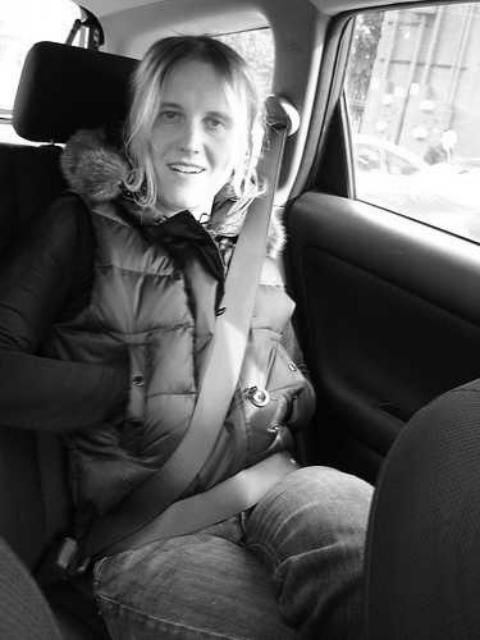SafeDriving: (198, 107, 232, 136), (154, 102, 188, 128)
Seatbelt: (60, 95, 304, 570)
